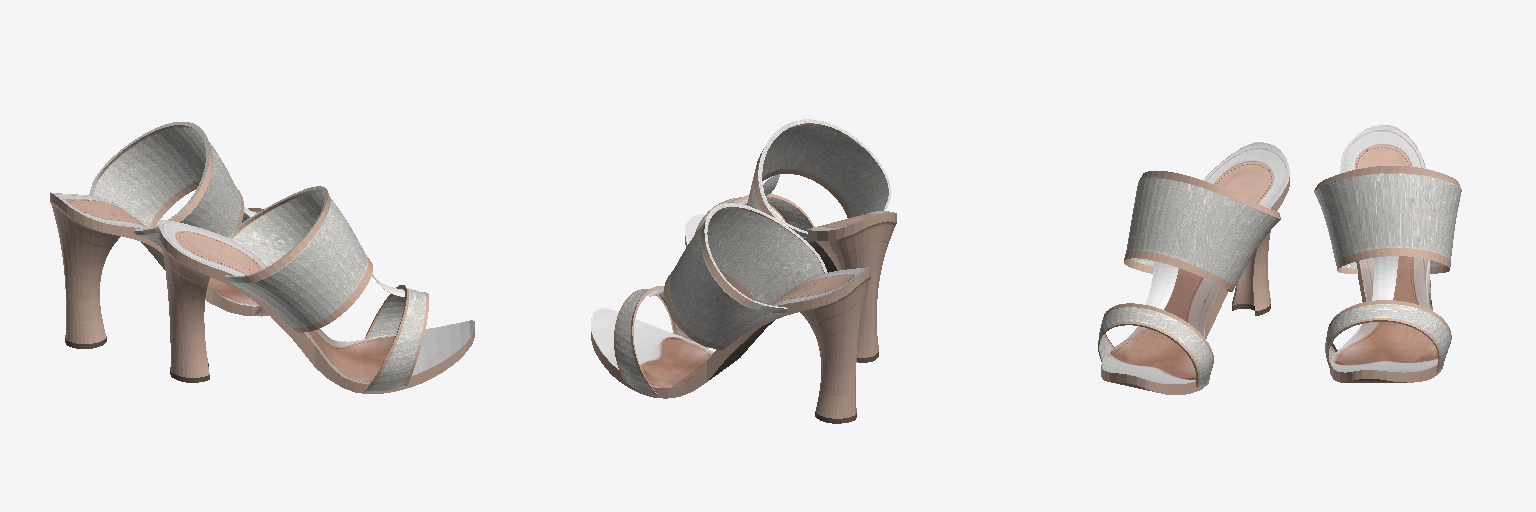
3 views of the same model, side by side, from view 1: azimuth 30°, elevation 25°; view 2: azimuth 150°, elevation 25°; view 3: azimuth 270°, elevation 25° (orthographic).
Parts seen in each view (by area): view 1: Mesh4_Group6_Group2_Group1_Model; view 2: Mesh4_Group6_Group2_Group1_Model; view 3: Mesh4_Group6_Group2_Group1_Model.
Boxes of the visible parts, x1,y1,x2,y2 form: Mesh4_Group6_Group2_Group1_Model: [50, 122, 474, 393]; Mesh4_Group6_Group2_Group1_Model: [591, 119, 896, 423]; Mesh4_Group6_Group2_Group1_Model: [1098, 125, 1461, 394].
Bounding box in the file's own units: 0.951 × 0.5701 × 1.01.
6 materials, 3 textured.